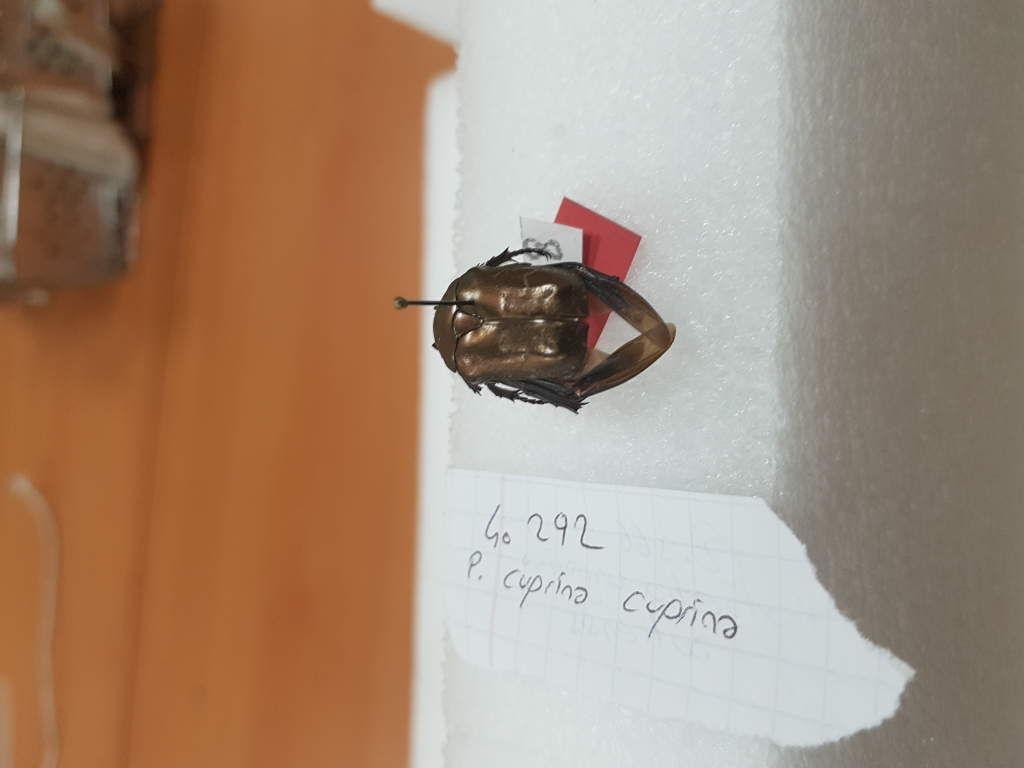Protaetia_cuprina_cuprina: (426, 239, 681, 417)
